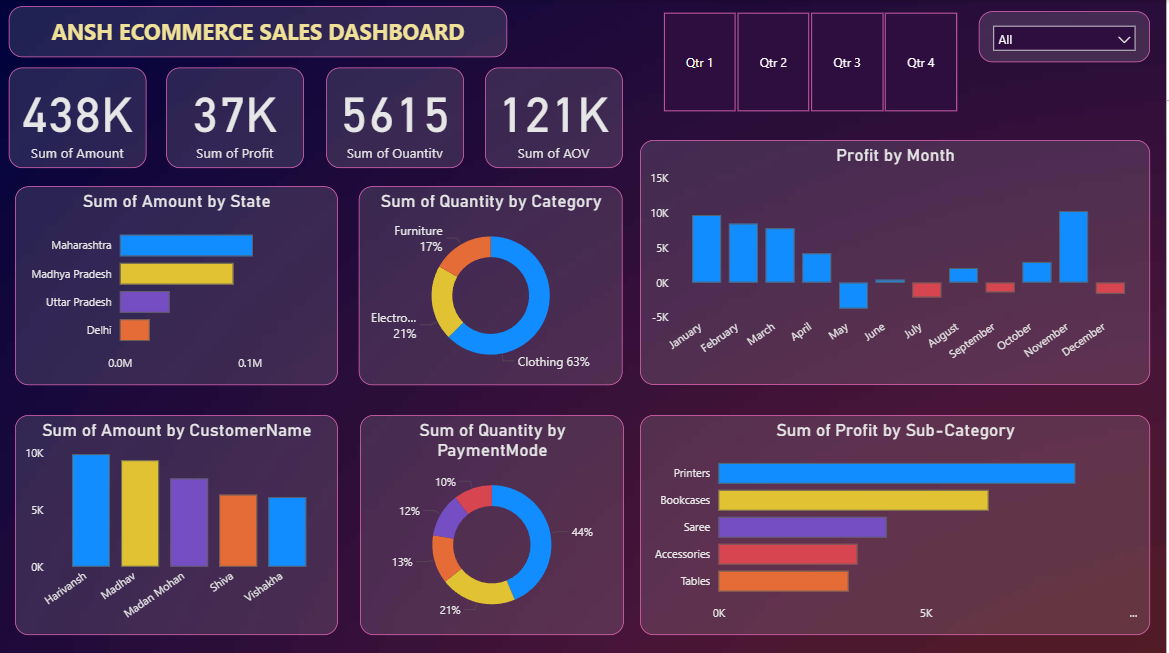

What the dashboard file says about the page in this screenshot:
{"tool":"powerbi","page":{"name":"Page 1","canvas":[1280,720],"ordinal":0},"visuals":[{"type":"textbox","box":[9.6,6.9,547.5,56.3],"z":0},{"type":"columnChart","title":"Profit by Month","fields":{"Y":["Details.Profit"],"Category":["Orders.Order Date.Variation.Date Hierarchy.Month"]},"box":[702.6,153.7,559.9,269],"z":1000},{"type":"barChart","fields":{"Category":["Details.Sub-Category"],"Y":["Details.Profit"]},"box":[702.6,455.6,559.9,241.5],"z":2000},{"type":"donutChart","fields":{"Category":["Details.Category"],"Y":["Details.Quantity"]},"box":[393.8,204.5,289.5,218.2],"z":3000},{"type":"donutChart","fields":{"Y":["Details.Quantity"],"Category":["Details.PaymentMode"]},"box":[395.2,455.6,289.5,241.5],"z":4000},{"type":"card","fields":{"Values":["Details.Amount"]},"box":[9.8,73.6,150.9,110.4],"z":5000},{"type":"card","fields":{"Values":["Details.Profit"]},"box":[182.8,73.6,150.9,110.4],"z":6000},{"type":"card","fields":{"Values":["Details.Quantity"]},"box":[358.3,73.6,150.9,110.4],"z":7000},{"type":"card","fields":{"Values":["Details.AOV"]},"box":[532.5,73.6,150.9,110.4],"z":8000},{"type":"barChart","fields":{"Category":["Orders.State"],"Y":["Details.Amount"]},"box":[16.5,204.5,354,218.2],"z":9000},{"type":"columnChart","fields":{"Category":["Orders.CustomerName"],"Y":["Details.Amount"]},"box":[16.5,455.6,354,241.5],"z":10000},{"type":"slicer","fields":{"Values":["Orders.Order Date.Variation.Date Hierarchy.Quarter"]},"box":[702.6,6.9,371.9,122.1],"z":11000},{"type":"slicer","fields":{"Values":["Orders.State"]},"box":[1074.4,12.3,188,56.3],"z":11001}]}

Visuals, with their boxes in screenshot pixels (x1, y1, x2, y2), scaled from the page's 1280x720 canvas onto the 1169x653 screenshot:
textbox: <bbox>9, 6, 509, 57</bbox>
"Profit by Month" columnChart: <bbox>642, 139, 1153, 383</bbox>
barChart - Details.Sub-Category x Details.Profit: <bbox>642, 413, 1153, 632</bbox>
donutChart - Details.Category x Details.Quantity: <bbox>360, 185, 624, 383</bbox>
donutChart - Details.Quantity x Details.PaymentMode: <bbox>361, 413, 625, 632</bbox>
card - Details.Amount: <bbox>9, 67, 147, 167</bbox>
card - Details.Profit: <bbox>167, 67, 305, 167</bbox>
card - Details.Quantity: <bbox>327, 67, 465, 167</bbox>
card - Details.AOV: <bbox>486, 67, 624, 167</bbox>
barChart - Orders.State x Details.Amount: <bbox>15, 185, 338, 383</bbox>
columnChart - Orders.CustomerName x Details.Amount: <bbox>15, 413, 338, 632</bbox>
slicer - Orders.Order Date.Variation.Date Hierarchy.Quarter: <bbox>642, 6, 981, 117</bbox>
slicer - Orders.State: <bbox>981, 11, 1153, 62</bbox>
